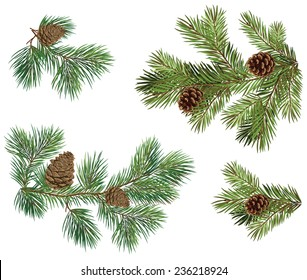Pc: (44, 148, 75, 194), (33, 18, 66, 48), (249, 51, 275, 79), (243, 193, 271, 217), (178, 87, 203, 112), (104, 187, 128, 208)
